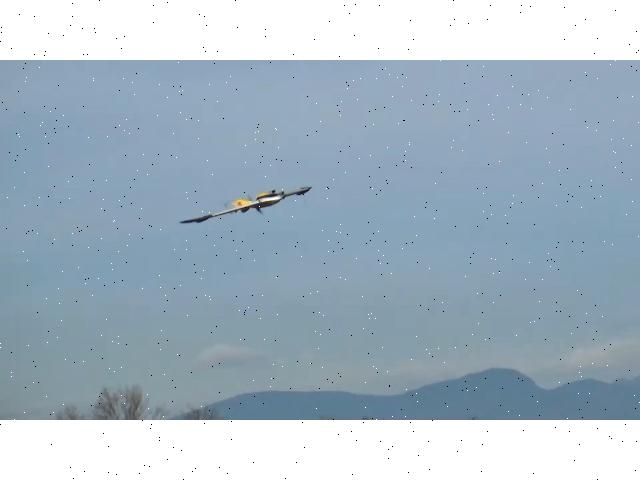Anti-Drone: (178, 187, 310, 224)
